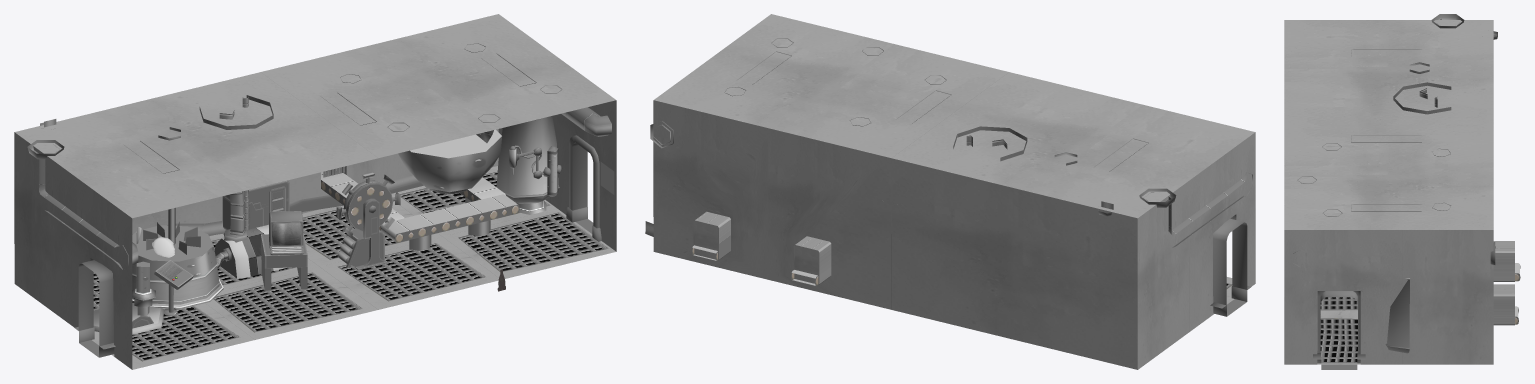
File: MSH_Nuka_room_L3_R2_optimized.fbx
3 views of the same model, side by side, from view 1: azimuth 30°, elevation 25°; view 2: azimuth 150°, elevation 25°; view 3: azimuth 270°, elevation 25° (orthographic). The views are drawn at different scales.
Parts seen in each view (by area): view 1: lightmap0, lightmap-1, MSH_Nuka_room_L3_ani_02, MSH_Nuka_room_L3_ani_01; view 2: lightmap0, lightmap-1; view 3: lightmap0, lightmap-1.
Boxes of the visible parts, x1,y1,x2,y2 form: lightmap0: (14,14,616,369); lightmap-1: (78,129,587,357); MSH_Nuka_room_L3_ani_02: (336,172,400,237); MSH_Nuka_room_L3_ani_01: (143,208,200,254); lightmap0: (645,14,1255,369); lightmap-1: (1213,218,1247,316); lightmap0: (1284,14,1520,369); lightmap-1: (1320,291,1357,302).
Bounding box in the file's own units: 20.61 × 6.66 × 9.32.
